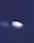Squash-Ball: (0, 1, 34, 43)
